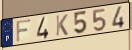4: (111, 5, 126, 30), (37, 16, 50, 40)
5: (92, 8, 108, 33), (73, 9, 88, 35)
F: (16, 18, 32, 44)
K: (55, 13, 69, 37)
